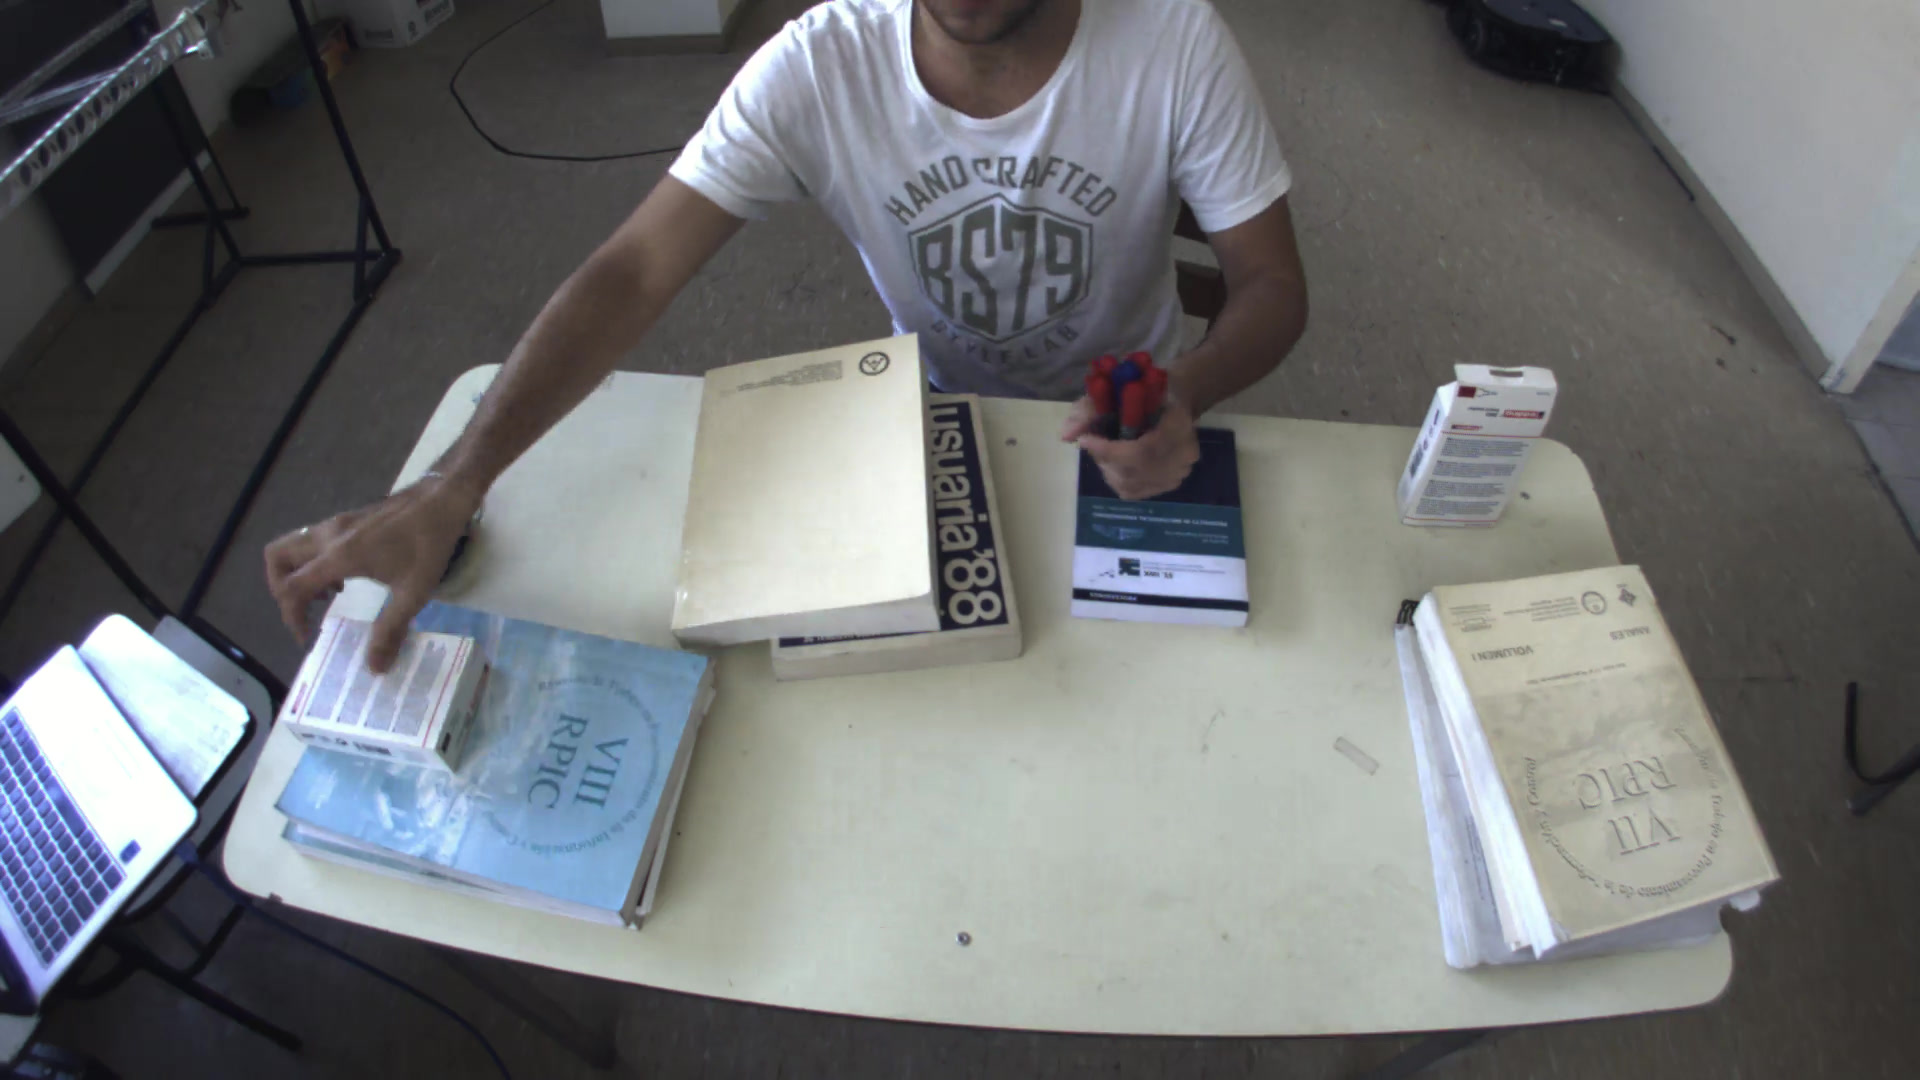hand: (244, 476, 484, 638), (1048, 344, 1221, 506)
